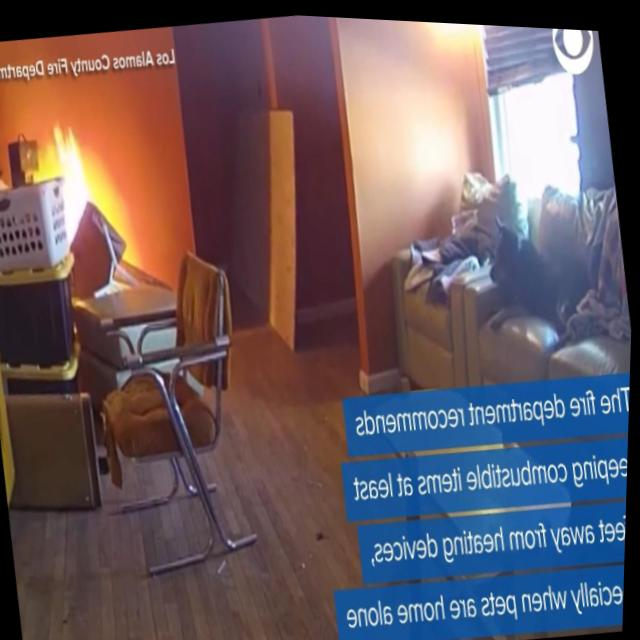fire: (27, 112, 99, 254)
